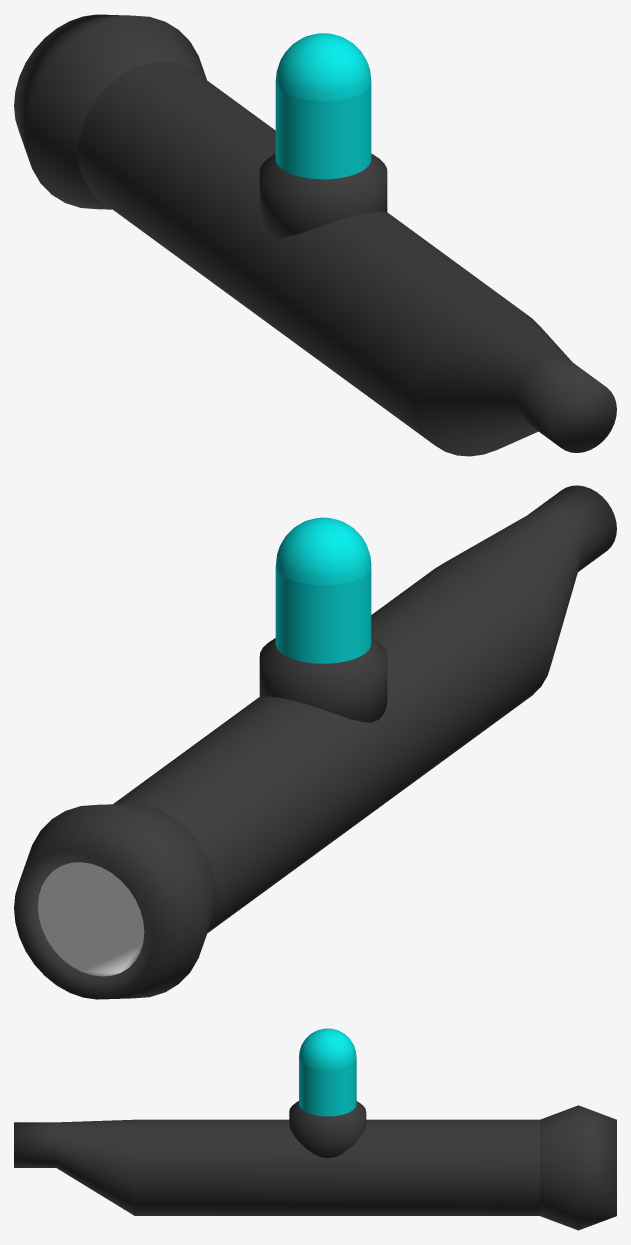
The model's file is Chicken Gun.glb.
The picture shows the model from 3 angles, top to bottom: view 1: azimuth 30°, elevation 25°; view 2: azimuth 150°, elevation 25°; view 3: azimuth 270°, elevation 25°; orthographic projection. The views are drawn at different scales.
Parts seen in each view (by area): view 1: Cylinder; view 2: Cylinder; view 3: Cylinder.
Part boxes in pixels (x1,y1,x2,y2): Cylinder: [14, 14, 616, 456]; Cylinder: [14, 485, 616, 999]; Cylinder: [14, 1028, 616, 1230].
Size of the model in its own units: 0.325 by 0.5538 by 1.56.
